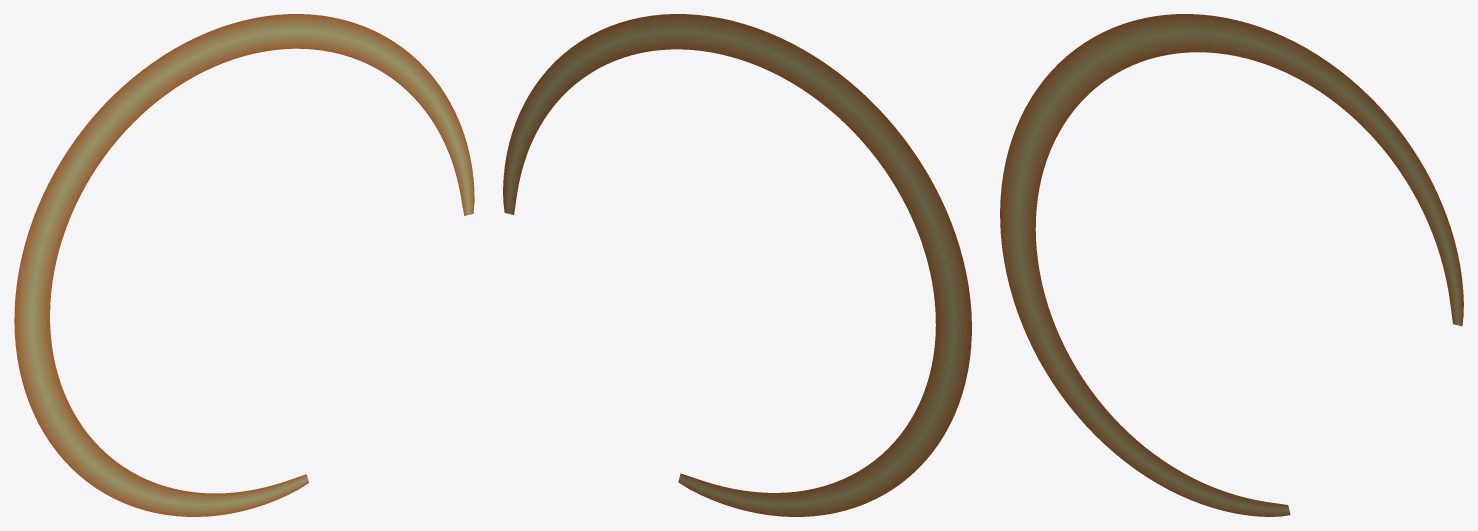
The model's file is 2054_SpinningSlash_SweepBlade.fbx.
3 renders of one model, left to right at view 1: azimuth 30°, elevation 25°; view 2: azimuth 150°, elevation 25°; view 3: azimuth 330°, elevation 25°, orthographic.
Visible parts, largest first — view 1: PART_Pyro_BroadTaperedSweep; view 2: PART_Pyro_BroadTaperedSweep; view 3: PART_Pyro_BroadTaperedSweep.
Part boxes in pixels (box(x1,y1,x2,y2)): PART_Pyro_BroadTaperedSweep: box(14, 14, 474, 516); PART_Pyro_BroadTaperedSweep: box(503, 14, 971, 516); PART_Pyro_BroadTaperedSweep: box(1000, 14, 1463, 516).
Size of the model in its own units: 211 by 212 by 5.
